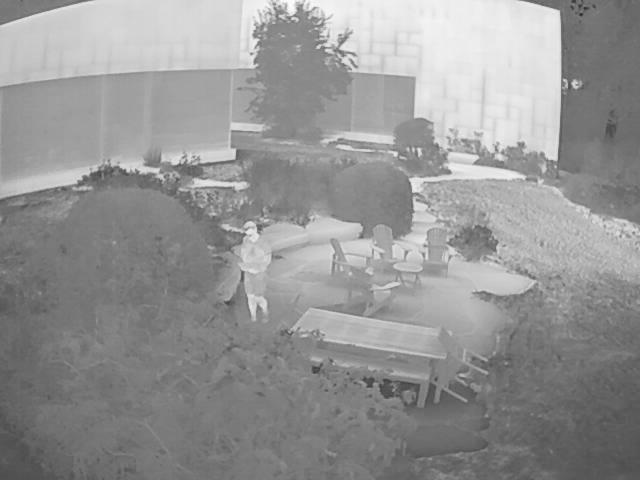person: (235, 221, 272, 332)
